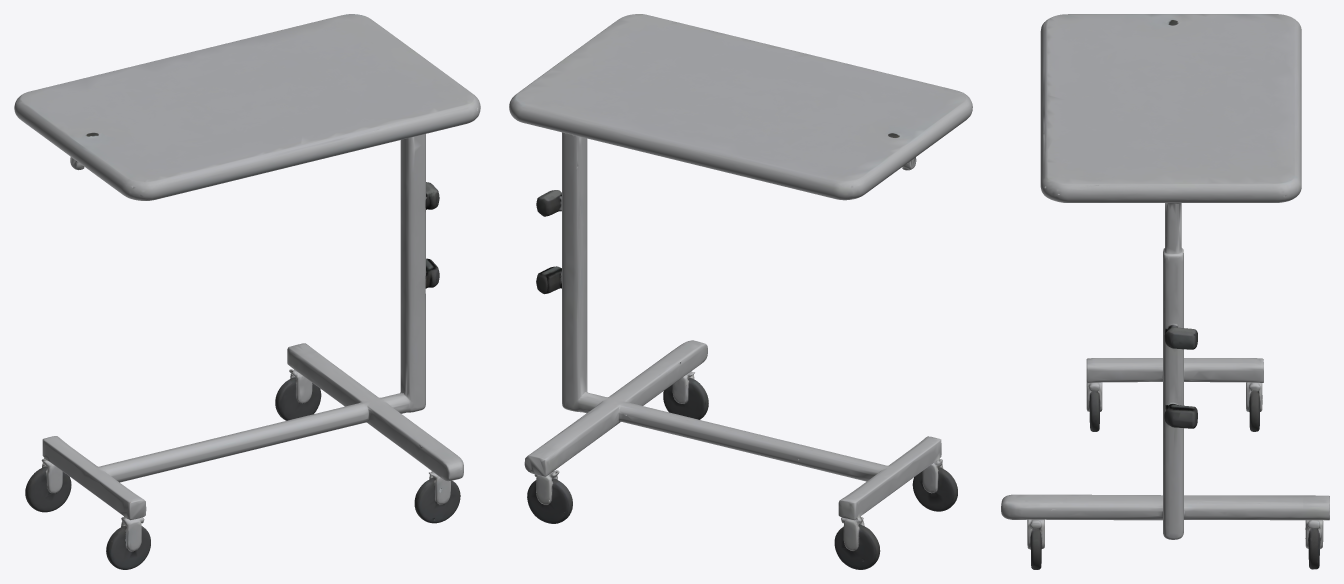
Rendered from Mesa de instrumentacion.fbx.
The picture shows the model from 3 angles, left to right: view 1: azimuth 30°, elevation 25°; view 2: azimuth 150°, elevation 25°; view 3: azimuth 270°, elevation 25°; orthographic projection.
Parts seen in each view (by area): view 1: tripo_node_21b95160; view 2: tripo_node_21b95160; view 3: tripo_node_21b95160.
Part boxes in pixels (x1,y1,x2,y2): tripo_node_21b95160: [14, 14, 480, 569]; tripo_node_21b95160: [509, 14, 972, 569]; tripo_node_21b95160: [1001, 14, 1329, 569].
Size of the model in its own units: 96.93 by 100 by 72.91.
1 material, 1 textured.
